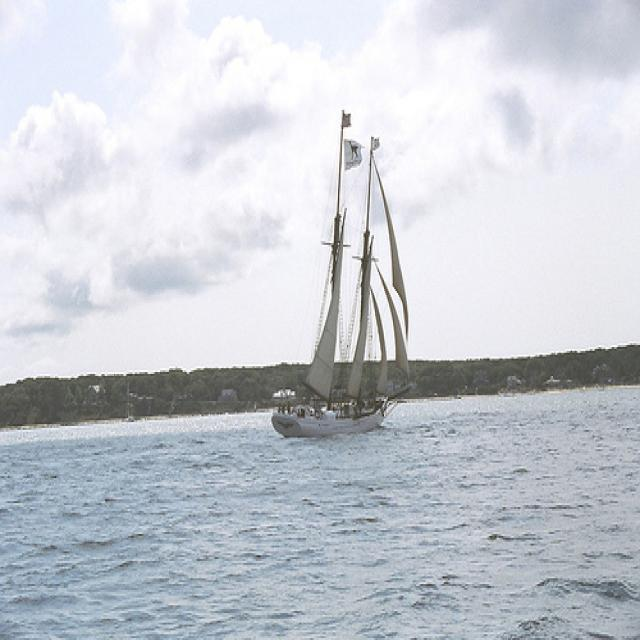Ship: (265, 115, 412, 440)
